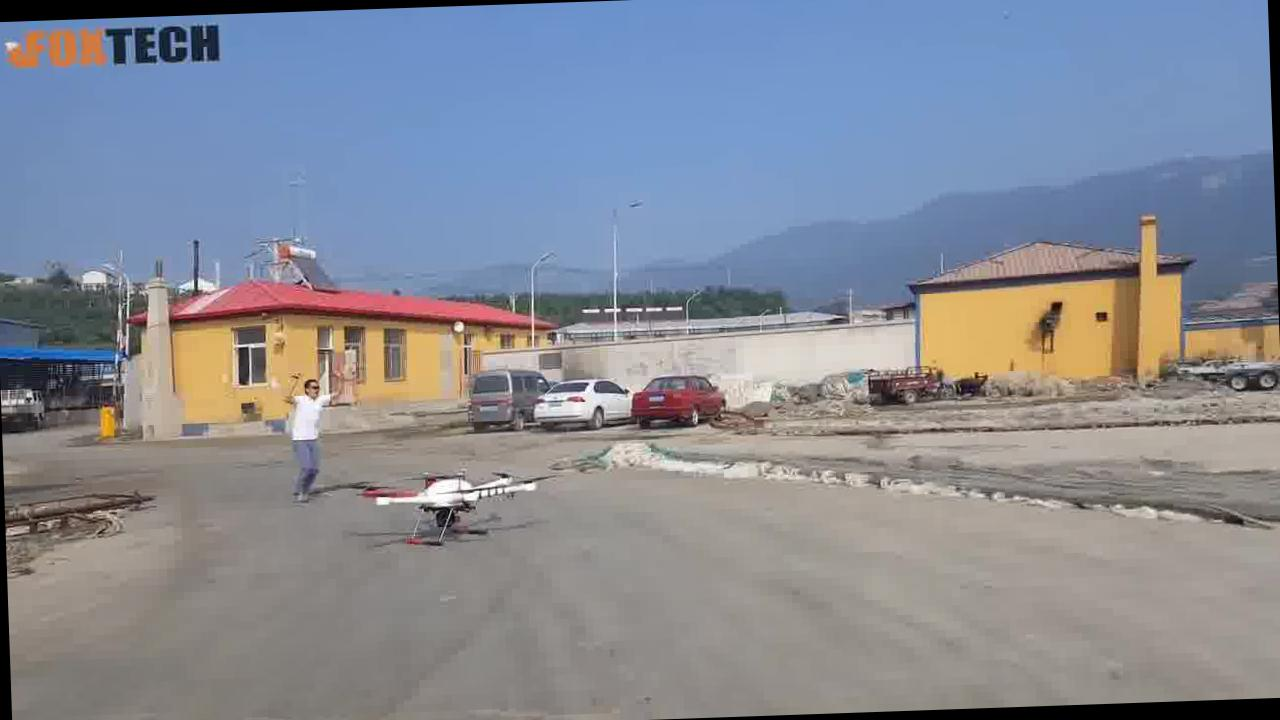drone: (352, 466, 542, 549)
